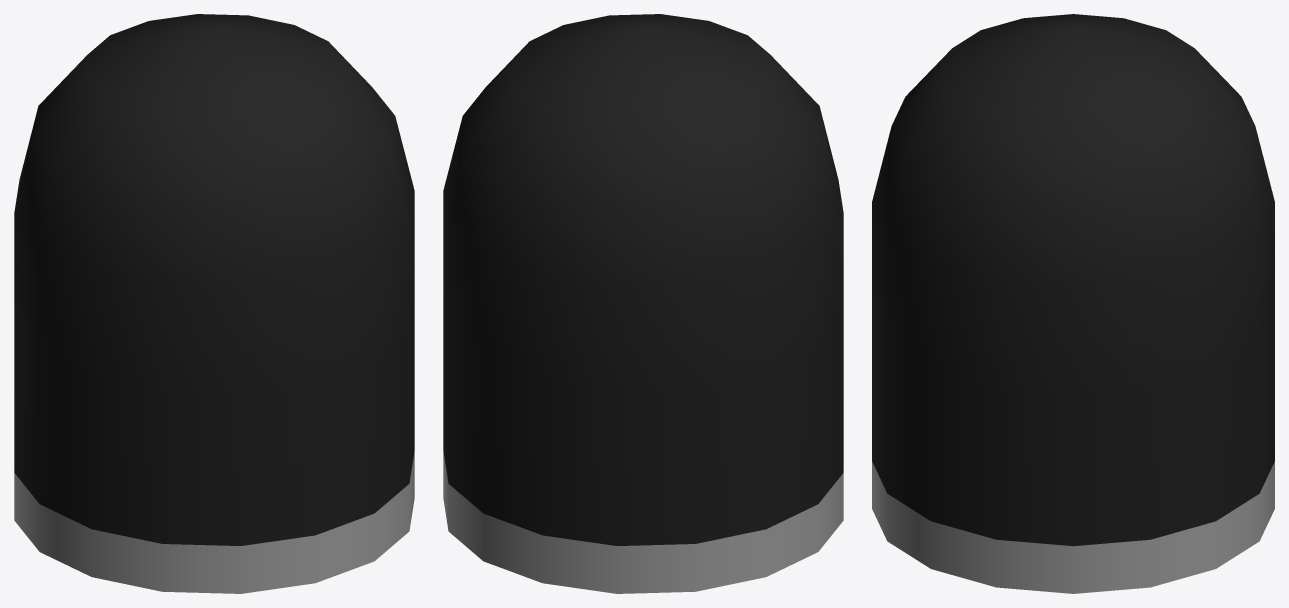
File: Arm_Sleeve_L_02_L.fbx
The picture shows the model from 3 angles, left to right: view 1: azimuth 30°, elevation 25°; view 2: azimuth 150°, elevation 25°; view 3: azimuth 270°, elevation 25°; orthographic projection.
Visible parts, largest first — view 1: Arm_Sleeve_L_02_L; view 2: Arm_Sleeve_L_02_L; view 3: Arm_Sleeve_L_02_L.
Part boxes in pixels (bbox=[...]): Arm_Sleeve_L_02_L: bbox=[14, 14, 414, 593]; Arm_Sleeve_L_02_L: bbox=[443, 14, 843, 593]; Arm_Sleeve_L_02_L: bbox=[872, 14, 1274, 593].
Bounding box in the file's own units: 48.18 × 63.45 × 48.18.
